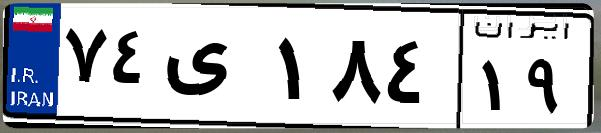1: (270, 28, 330, 110), (475, 38, 525, 113)
4: (385, 28, 445, 110), (110, 28, 158, 98)
7: (57, 26, 110, 100)
8: (330, 28, 385, 110)
9: (525, 38, 570, 115)
ی: (158, 20, 270, 120)
